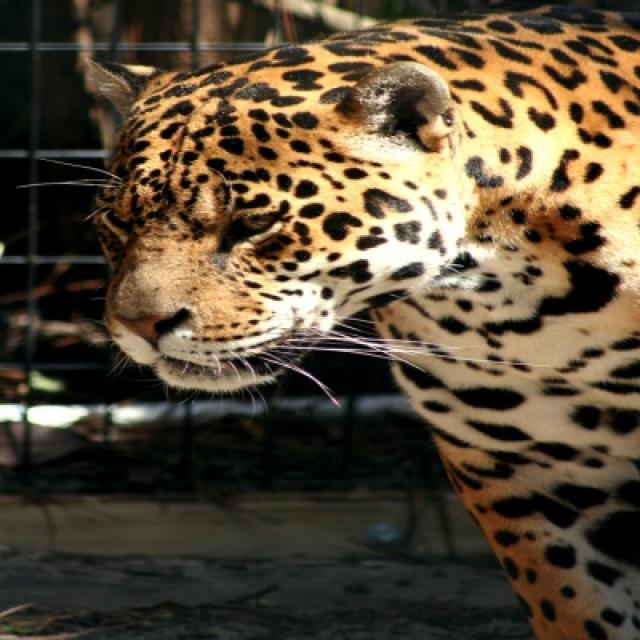Jaguar: (91, 0, 638, 638)
